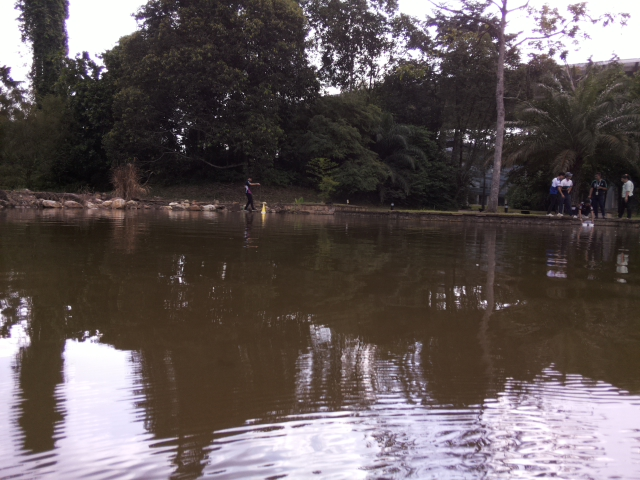checkpoint: (259, 202, 267, 215)
